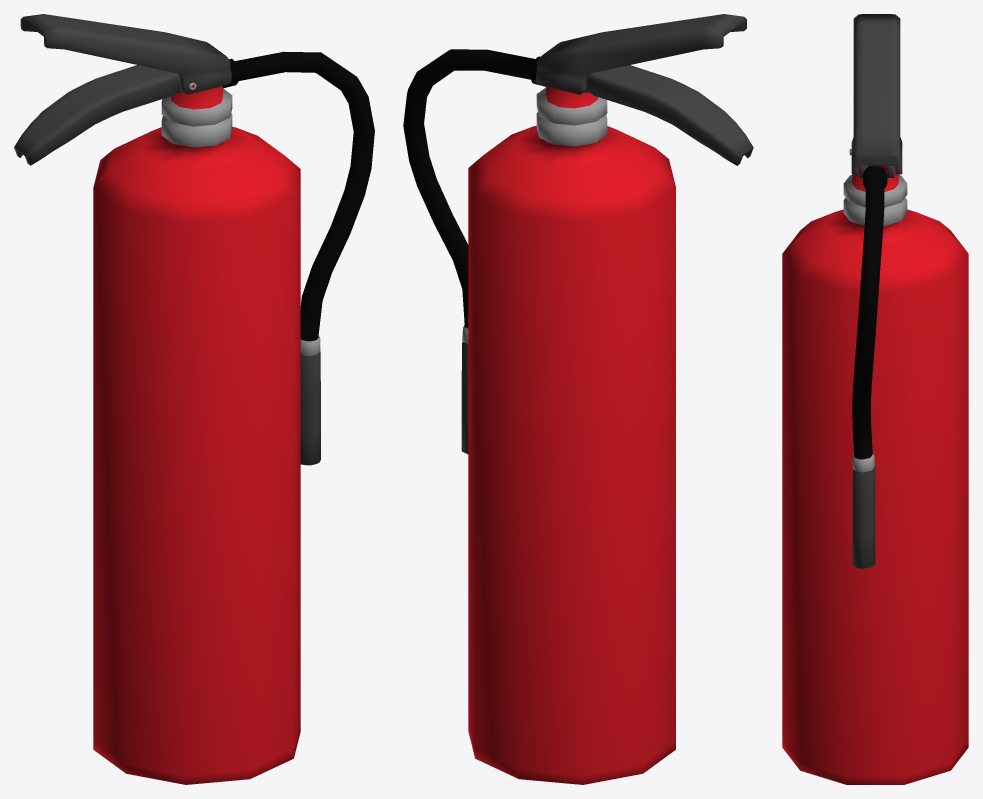
Rendered from FireEstinguisher_CLEAN.fbx.
The picture shows the model from 3 angles, left to right: view 1: azimuth 30°, elevation 25°; view 2: azimuth 150°, elevation 25°; view 3: azimuth 270°, elevation 25°; orthographic projection. The views are drawn at different scales.
Visible parts, largest first — view 1: FireEstinguisher_CLEAN; view 2: FireEstinguisher_CLEAN; view 3: FireEstinguisher_CLEAN.
Part boxes in pixels (bbox=[...]): FireEstinguisher_CLEAN: bbox=[14, 14, 374, 784]; FireEstinguisher_CLEAN: bbox=[403, 14, 753, 784]; FireEstinguisher_CLEAN: bbox=[782, 14, 968, 784].
Bounding box in the file's own units: 39.47 × 81.81 × 20.8.
